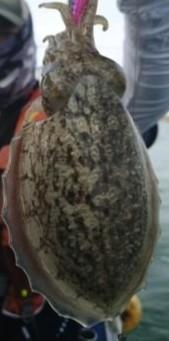Cephalopod: (7, 0, 161, 329)
